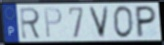7: (67, 6, 86, 40)
O: (112, 5, 135, 40)
P: (135, 5, 158, 40), (43, 7, 63, 40)
R: (19, 6, 43, 40)
V: (87, 6, 111, 40)
